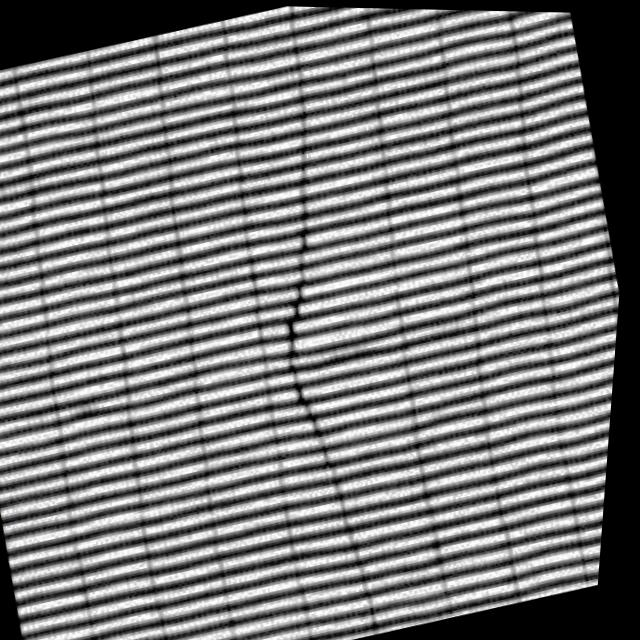Stitch: (218, 148, 422, 500)
